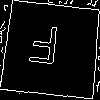F: (26, 25, 61, 74)
